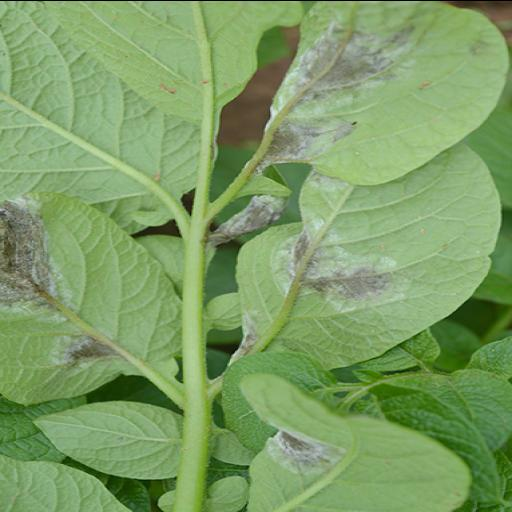Late Blight: (211, 140, 512, 370), (250, 0, 512, 188), (2, 182, 202, 404), (219, 366, 472, 511)
